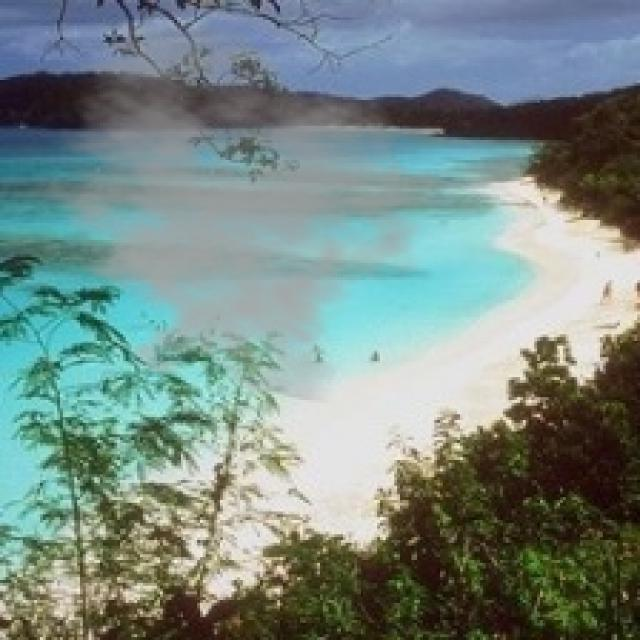smoke: (17, 17, 443, 406)
